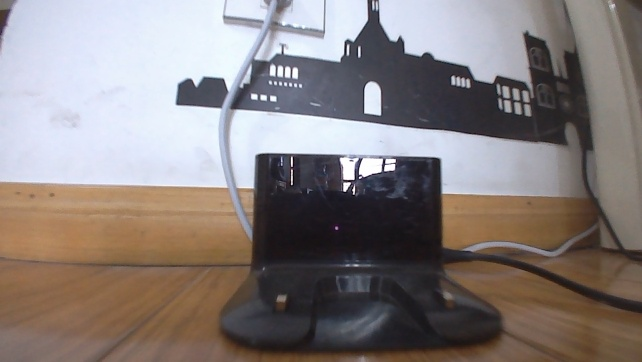charger: (215, 145, 506, 354)
wire: (465, 142, 641, 312), (215, 0, 280, 241)
